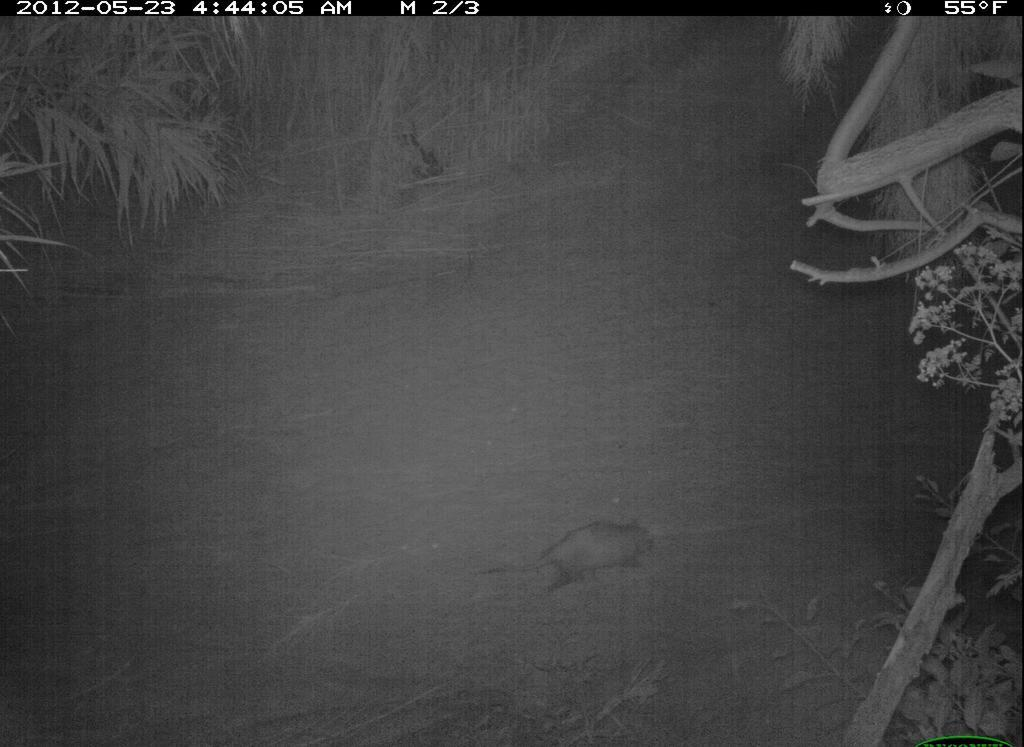opossum: (483, 518, 662, 603)
